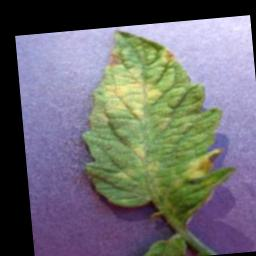Leaf_Mold: (83, 64, 170, 128), (181, 146, 226, 182), (104, 45, 126, 70), (161, 46, 180, 64)
